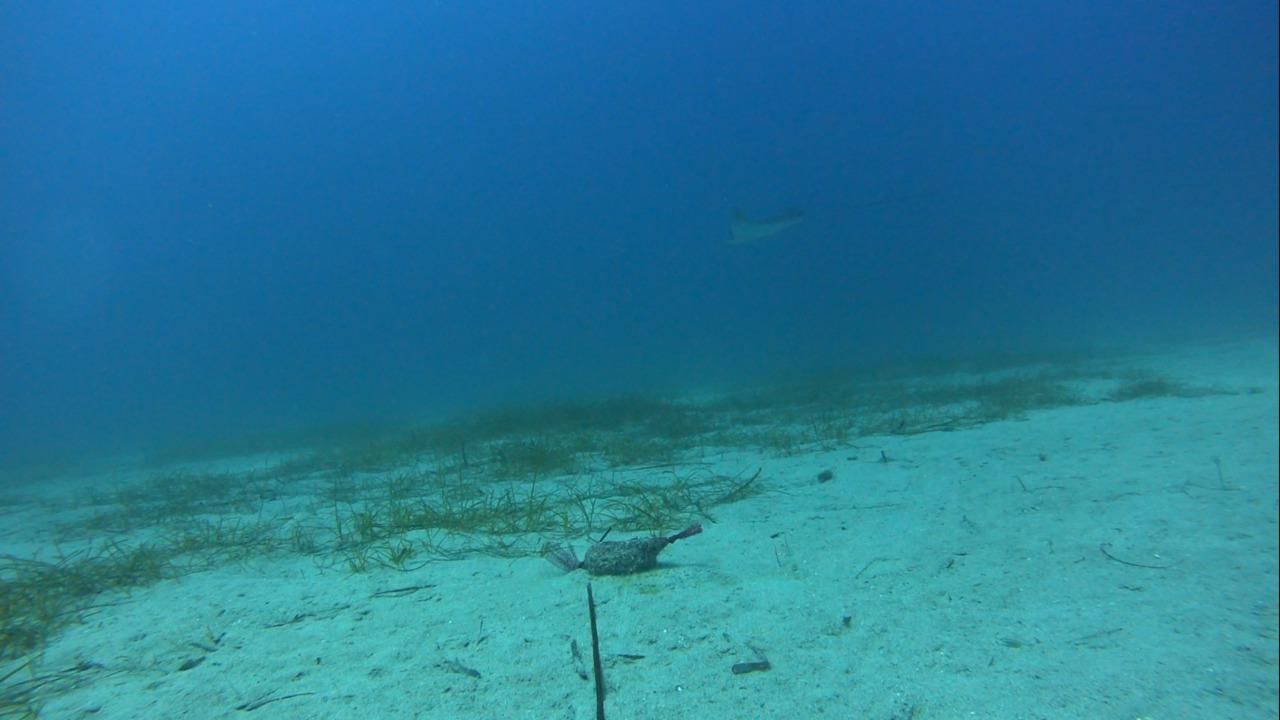myliobatis: (714, 182, 967, 248)
